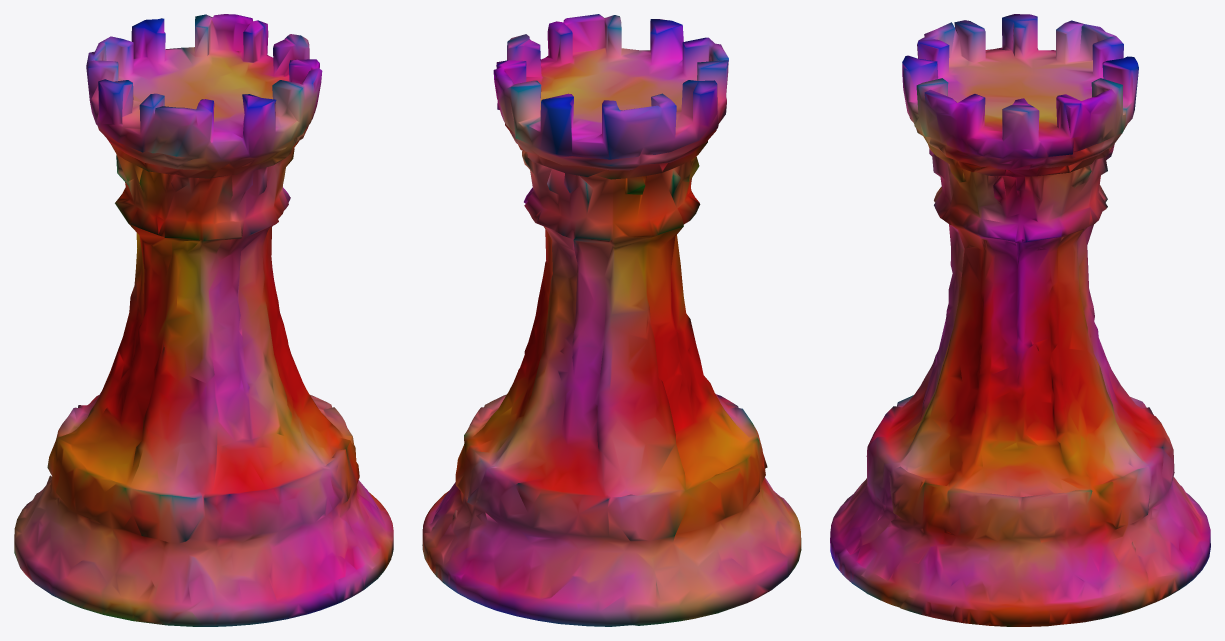
File: rook.glb
3 views of the same model, side by side, from view 1: azimuth 30°, elevation 25°; view 2: azimuth 150°, elevation 25°; view 3: azimuth 270°, elevation 25° (orthographic).
Parts seen in each view (by area): view 1: geometry_0; view 2: geometry_0; view 3: geometry_0.
Part boxes in pixels (bbox=[...]): geometry_0: bbox=[14, 14, 393, 626]; geometry_0: bbox=[422, 14, 801, 626]; geometry_0: bbox=[830, 14, 1210, 626].
Size of the model in its own units: 0.7108 by 1 by 0.7113.
